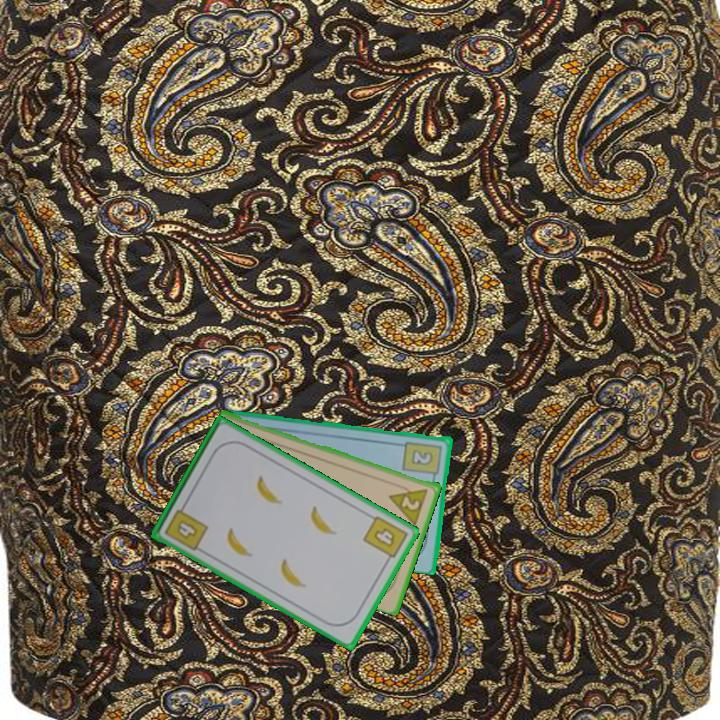2b: (400, 437, 445, 483)
2p: (386, 481, 431, 527)
4b: (359, 512, 411, 567), (161, 500, 211, 554)
